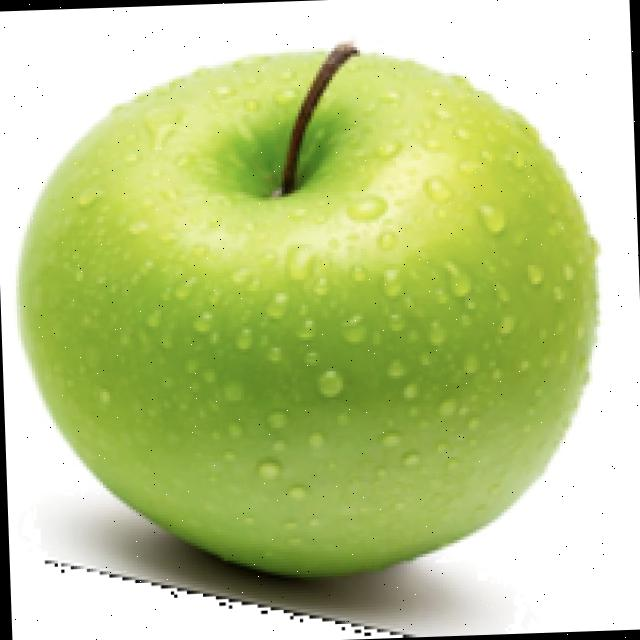apple: (12, 34, 606, 635)
